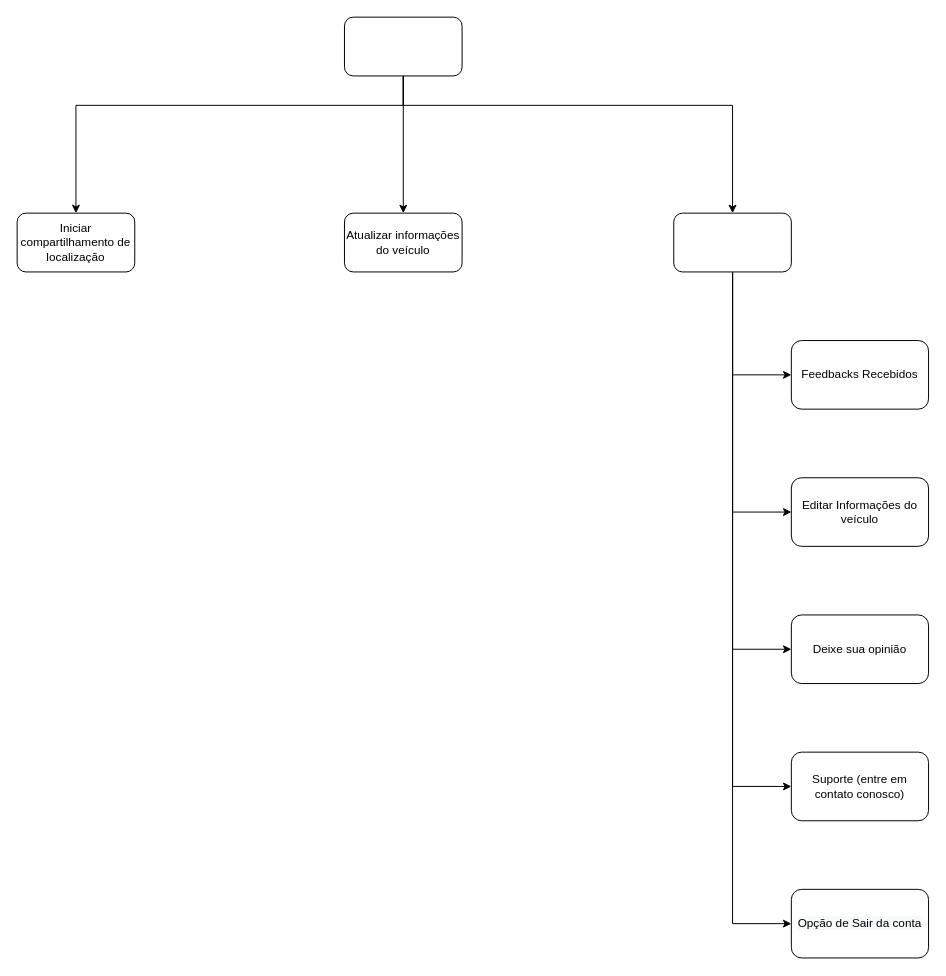
Image size: 946x976. Some labels were removed from this diagram. Each missing label, with the centre of its shape:
"Configurações" belongs at (x=732, y=242).
"Mapa com sua localização" belongs at (x=402, y=46).
